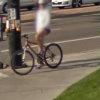bicycles: (9, 33, 64, 77)
